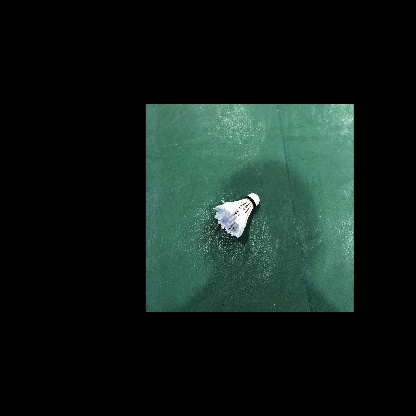ball_single: (213, 193, 260, 238)
